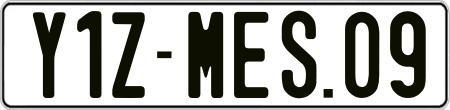0: (343, 11, 377, 103)
1: (75, 10, 105, 97)
9: (389, 10, 431, 99)
E: (231, 11, 266, 103)
M: (188, 10, 224, 100)
S: (280, 10, 318, 101)
Y: (32, 11, 69, 99)
Z: (111, 10, 150, 101)
